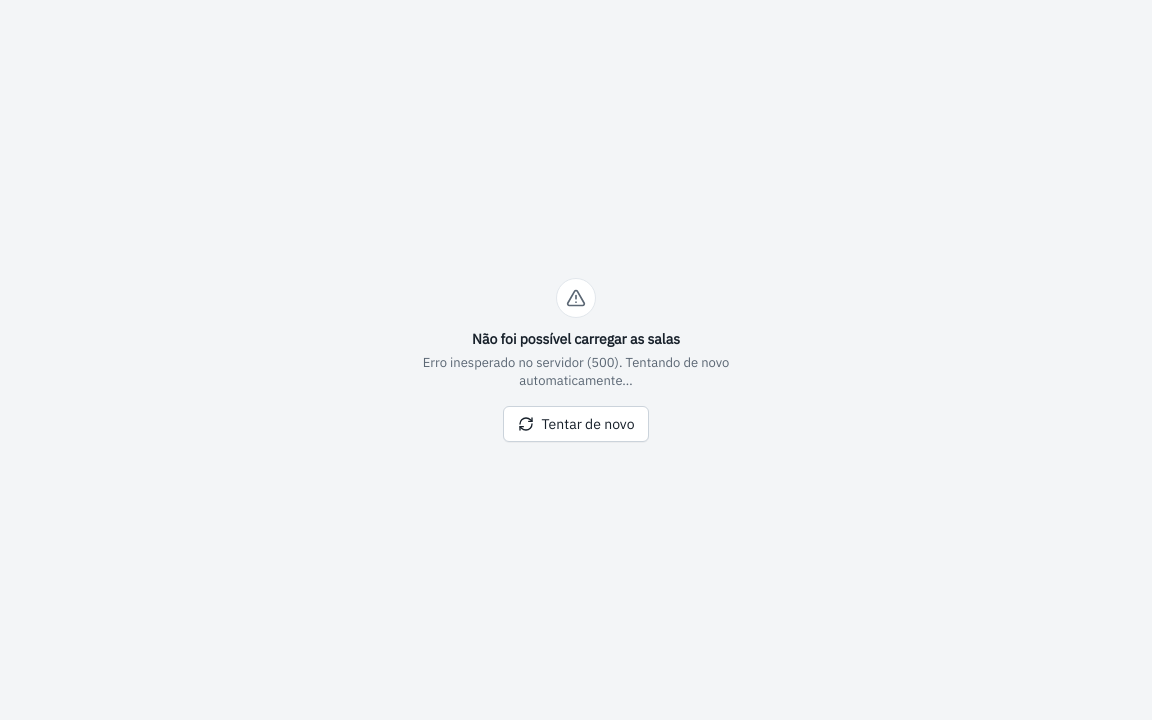
it: RoomGrid (estados de carga) › R15: a lista de salas falhou → erro com "Tentar de novo" (não um esqueleto eterno)
Expected: the text "Não foi possível carregar as salas" is shown, [472,330,680,350]
Expected: the text "Erro inesperado no servidor (500)" is shown, [423,354,729,389]
Click the button "Tentar de novo".
click(576, 424)  # box [502,406,650,442]
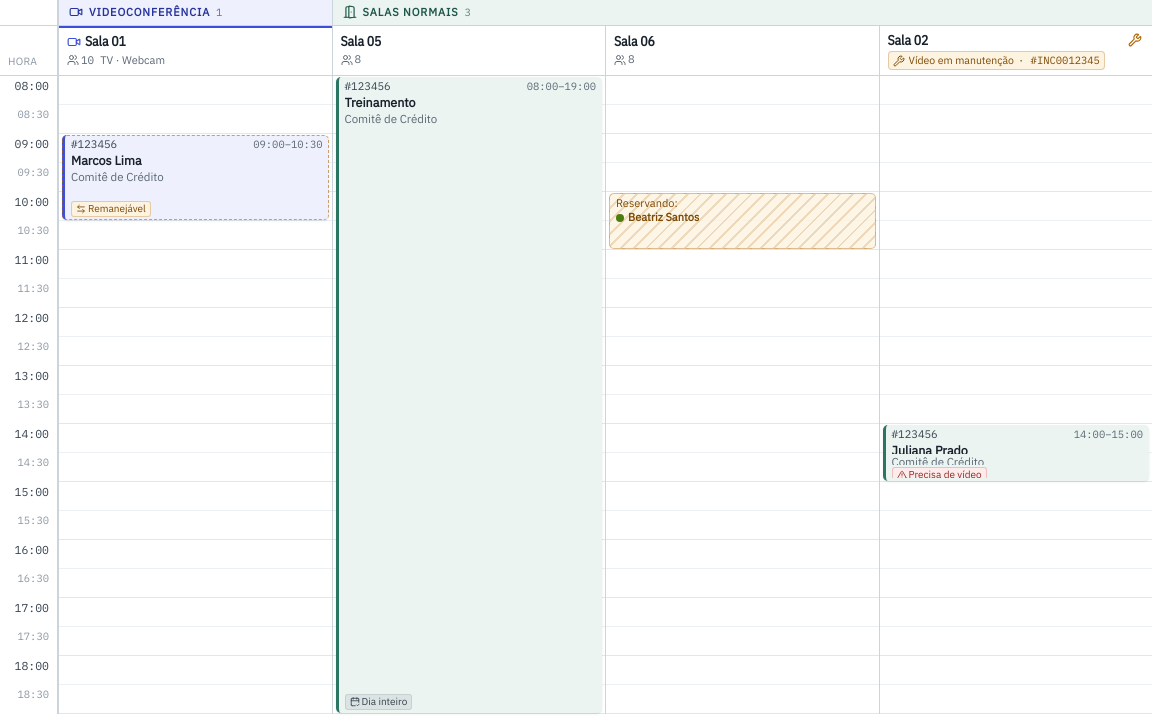
Expected: the table is shown
